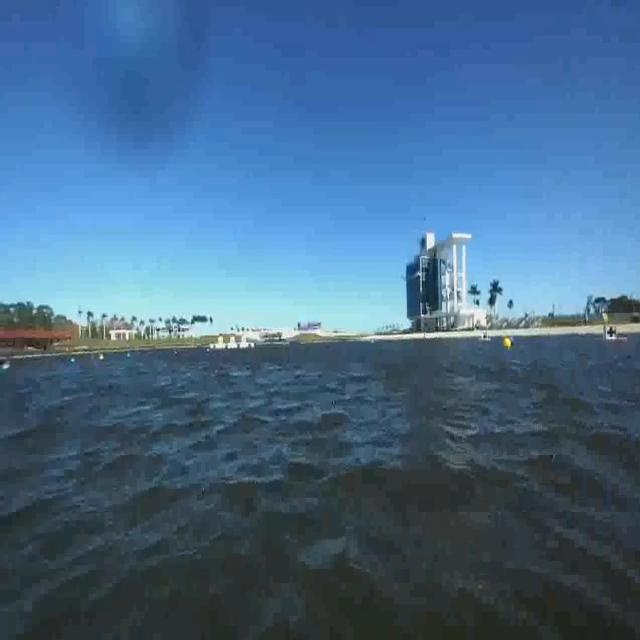yellow-buoy: (502, 336, 512, 351)
